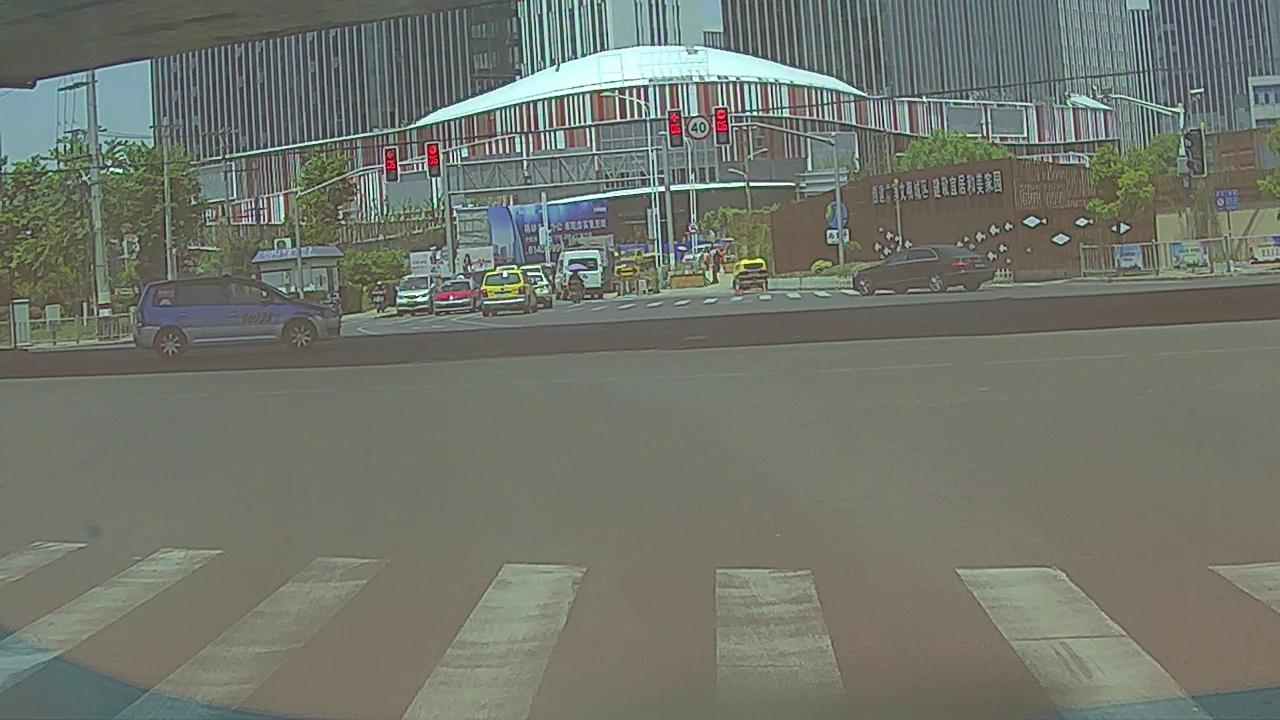traffic_light: (714, 107, 730, 144), (668, 111, 683, 146), (384, 148, 397, 181), (427, 144, 439, 176)
